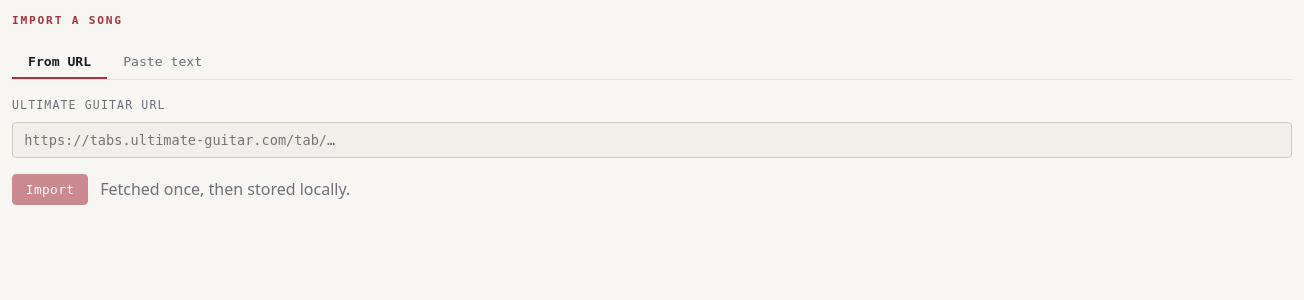
Test: ImportPage › reports a duplicate import clearly
Type "https://x.test" into the field labelled "Ultimate Guitar URL" at (652,140), box [12,122,1292,158]
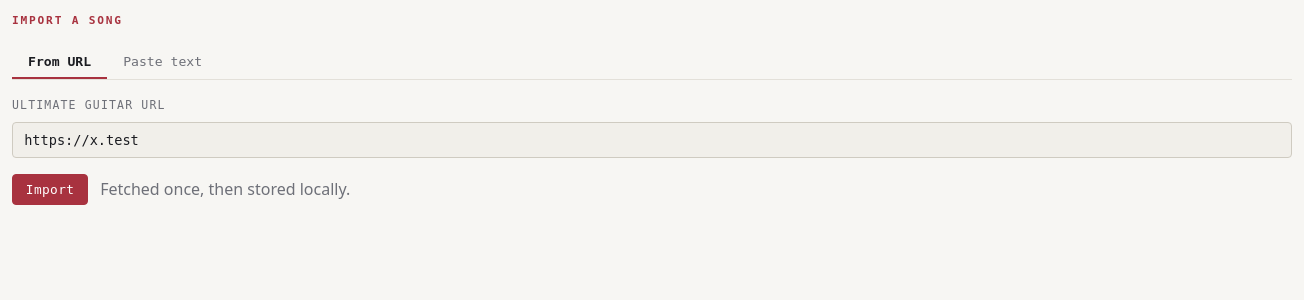
Click the button "Import" at (50,190), box [12,174,88,205]
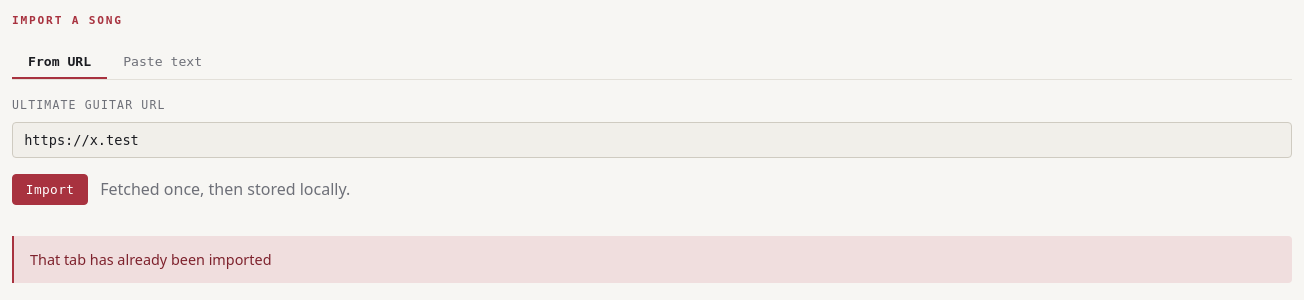
Check: the text "That tab has already been imported" is shown, box [12,236,1292,283]
